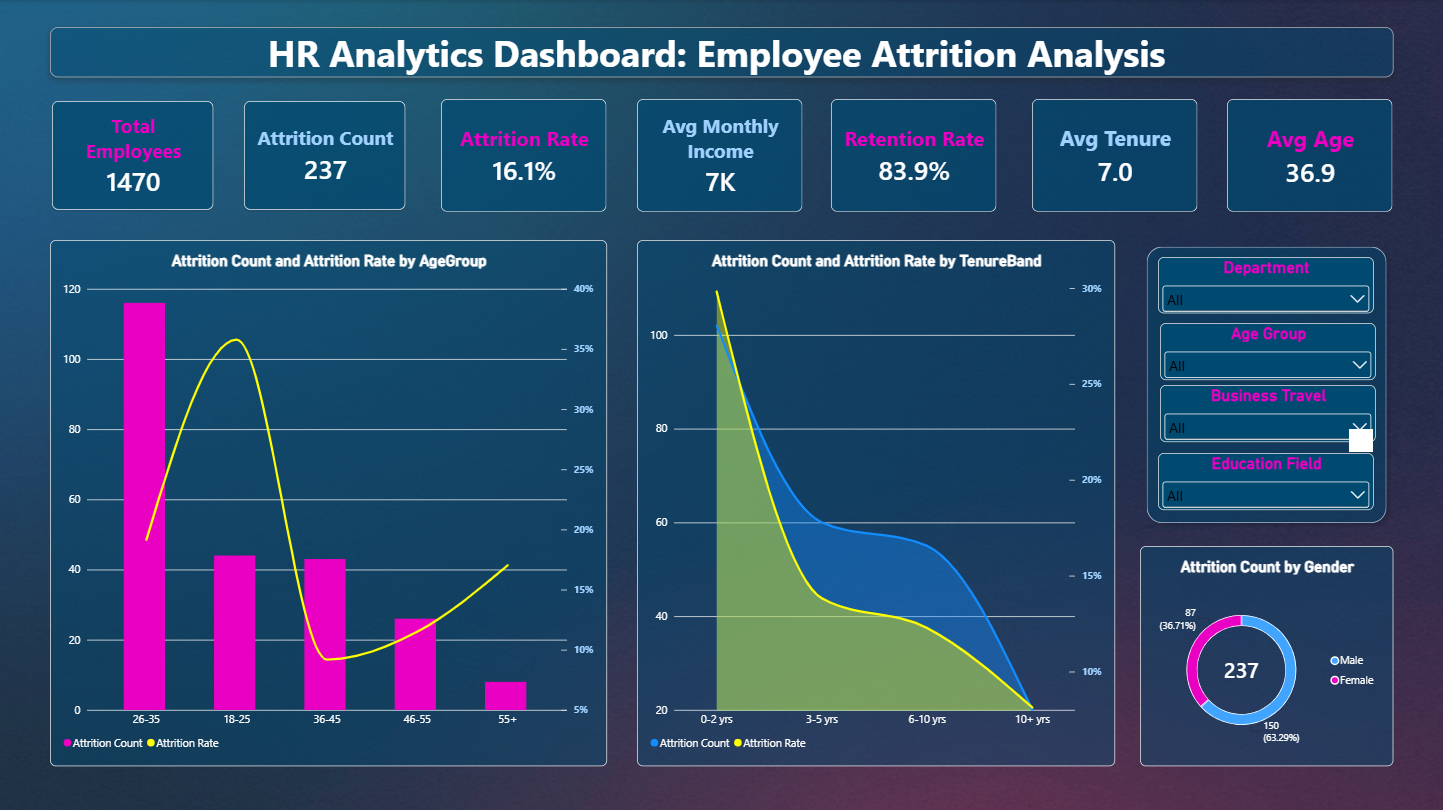

What the dashboard file says about the page in this screenshot:
{"tool":"powerbi","page":{"name":"Overview","canvas":[1920,1080],"ordinal":0},"visuals":[{"type":"textbox","box":[67.3,36,1786.9,67.3],"z":0},{"type":"cardVisual","fields":{"Data":["HR.Total Employees"]},"box":[67.3,131.5,220.8,150.3],"z":1000},{"type":"cardVisual","fields":{"Data":["HR.Attrition Count"]},"box":[322.6,131.5,220.8,150.3],"z":2000},{"type":"cardVisual","fields":{"Data":["HR.Attrition Rate"]},"box":[587.3,131.5,220.8,150.3],"z":3000},{"type":"cardVisual","fields":{"Data":["HR.Retention Rate"]},"box":[1107.2,131.5,220.8,150.3],"z":4000},{"type":"cardVisual","fields":{"Data":["HR.Avg Age"]},"box":[1633.4,131.5,220.8,150.3],"z":5000},{"type":"cardVisual","fields":{"Data":["HR.Avg Monthly Income"]},"box":[848.8,131.5,220.8,150.3],"z":6000},{"type":"cardVisual","fields":{"Data":["HR.Avg Tenure"]},"box":[1373.4,131.5,220.8,150.3],"z":7000},{"type":"donutChart","title":"Attrition Count by Gender","fields":{"Category":["HR.Gender"],"Y":["HR.Attrition Count"]},"box":[1517.5,726.7,336.7,292.9],"z":8000},{"type":"lineStackedColumnComboChart","fields":{"Category":["HR.AgeGroup"],"Y":["HR.Attrition Count"],"Y2":["HR.Attrition Rate"]},"box":[67.3,319.5,740.8,700],"z":9000},{"type":"areaChart","fields":{"Category":["HR.TenureBand"],"Y":["HR.Attrition Count"],"Y2":["HR.Attrition Rate"]},"box":[848.8,319.5,635.8,700],"z":10000},{"type":"shape","box":[1517.5,319.5,336.7,385.3],"z":11000},{"type":"slicer","title":"Department","fields":{"Values":["HR.Department"]},"box":[1542,342,286.6,75.2],"z":12000},{"type":"slicer","title":"Age Group","fields":{"Values":["HR.AgeGroup"]},"box":[1544,429,287,76],"z":13000},{"type":"slicer","title":"Business Travel","fields":{"Values":["HR.BusinessTravel"]},"box":[1544,512,287,76],"z":14000},{"type":"slicer","title":"Education Field","fields":{"Values":["HR.EducationField"]},"box":[1542,602,287,76],"z":15000}]}

Visuals, with their boxes in screenshot pixels (x1, y1, x2, y2), scaled from the page's 1920x1080 canvas onto the 1443x810 screenshot:
textbox: Rect(51, 27, 1394, 77)
cardVisual - HR.Total Employees: Rect(51, 99, 217, 211)
cardVisual - HR.Attrition Count: Rect(242, 99, 408, 211)
cardVisual - HR.Attrition Rate: Rect(441, 99, 607, 211)
cardVisual - HR.Retention Rate: Rect(832, 99, 998, 211)
cardVisual - HR.Avg Age: Rect(1228, 99, 1394, 211)
cardVisual - HR.Avg Monthly Income: Rect(638, 99, 804, 211)
cardVisual - HR.Avg Tenure: Rect(1032, 99, 1198, 211)
"Attrition Count by Gender" donutChart: Rect(1140, 545, 1394, 765)
lineStackedColumnComboChart - HR.AgeGroup x HR.Attrition Count: Rect(51, 240, 607, 765)
areaChart - HR.TenureBand x HR.Attrition Count: Rect(638, 240, 1116, 765)
shape: Rect(1140, 240, 1394, 529)
"Department" slicer: Rect(1159, 256, 1374, 313)
"Age Group" slicer: Rect(1160, 322, 1376, 379)
"Business Travel" slicer: Rect(1160, 384, 1376, 441)
"Education Field" slicer: Rect(1159, 452, 1375, 508)
